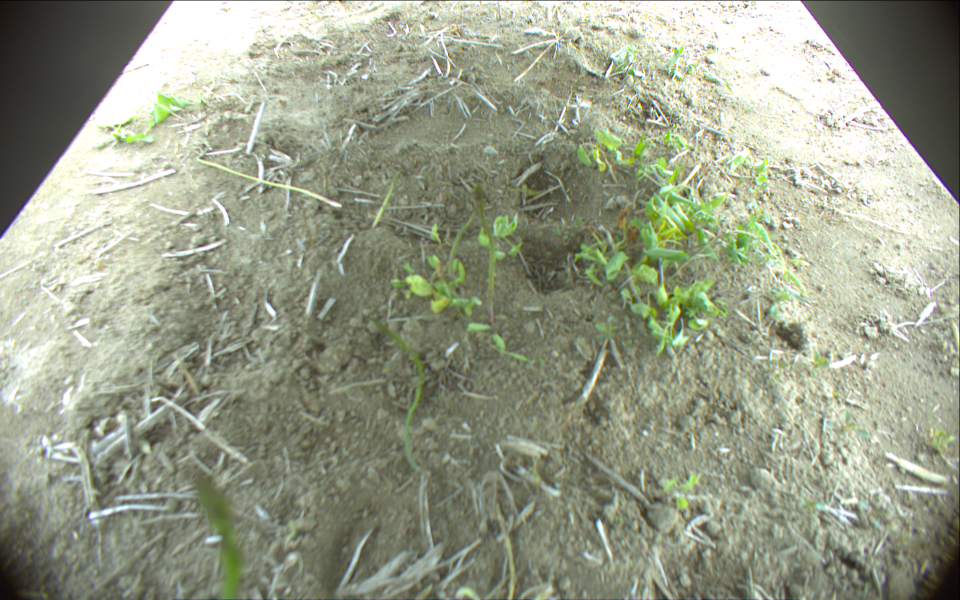aspa: (365, 315, 421, 471), (197, 157, 341, 208), (192, 472, 245, 600), (473, 181, 495, 326), (370, 165, 402, 230), (496, 503, 515, 600)
